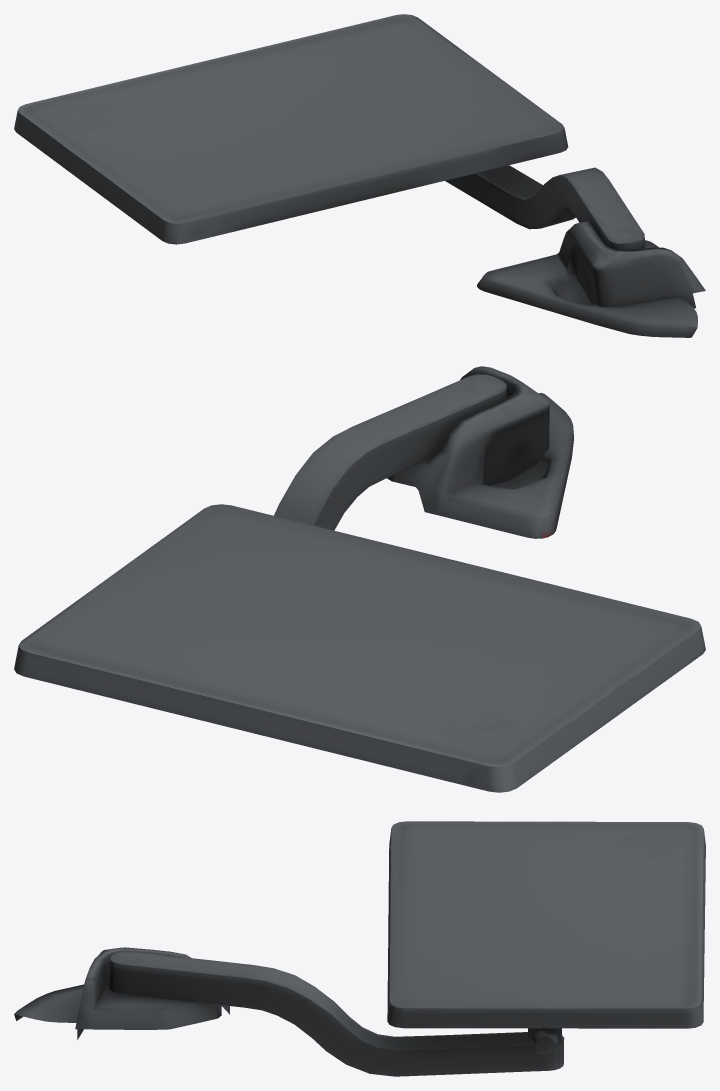
Rendered from Swivel_Table.glb.
The picture shows the model from 3 angles, top to bottom: view 1: azimuth 30°, elevation 25°; view 2: azimuth 150°, elevation 25°; view 3: azimuth 270°, elevation 25°; orthographic projection. The views are drawn at different scales.
Visible parts, largest first — view 1: Swivel_Table; view 2: Swivel_Table; view 3: Swivel_Table.
Boxes of the visible parts, x1=… form: Swivel_Table: x1=14, y1=14, x2=705, y2=337; Swivel_Table: x1=14, y1=366, x2=705, y2=792; Swivel_Table: x1=14, y1=821, x2=705, y2=1076.
Bounding box in the file's own units: 0.421 × 0.0958 × 0.6472.
Materials: 1 (1 with a texture image).
